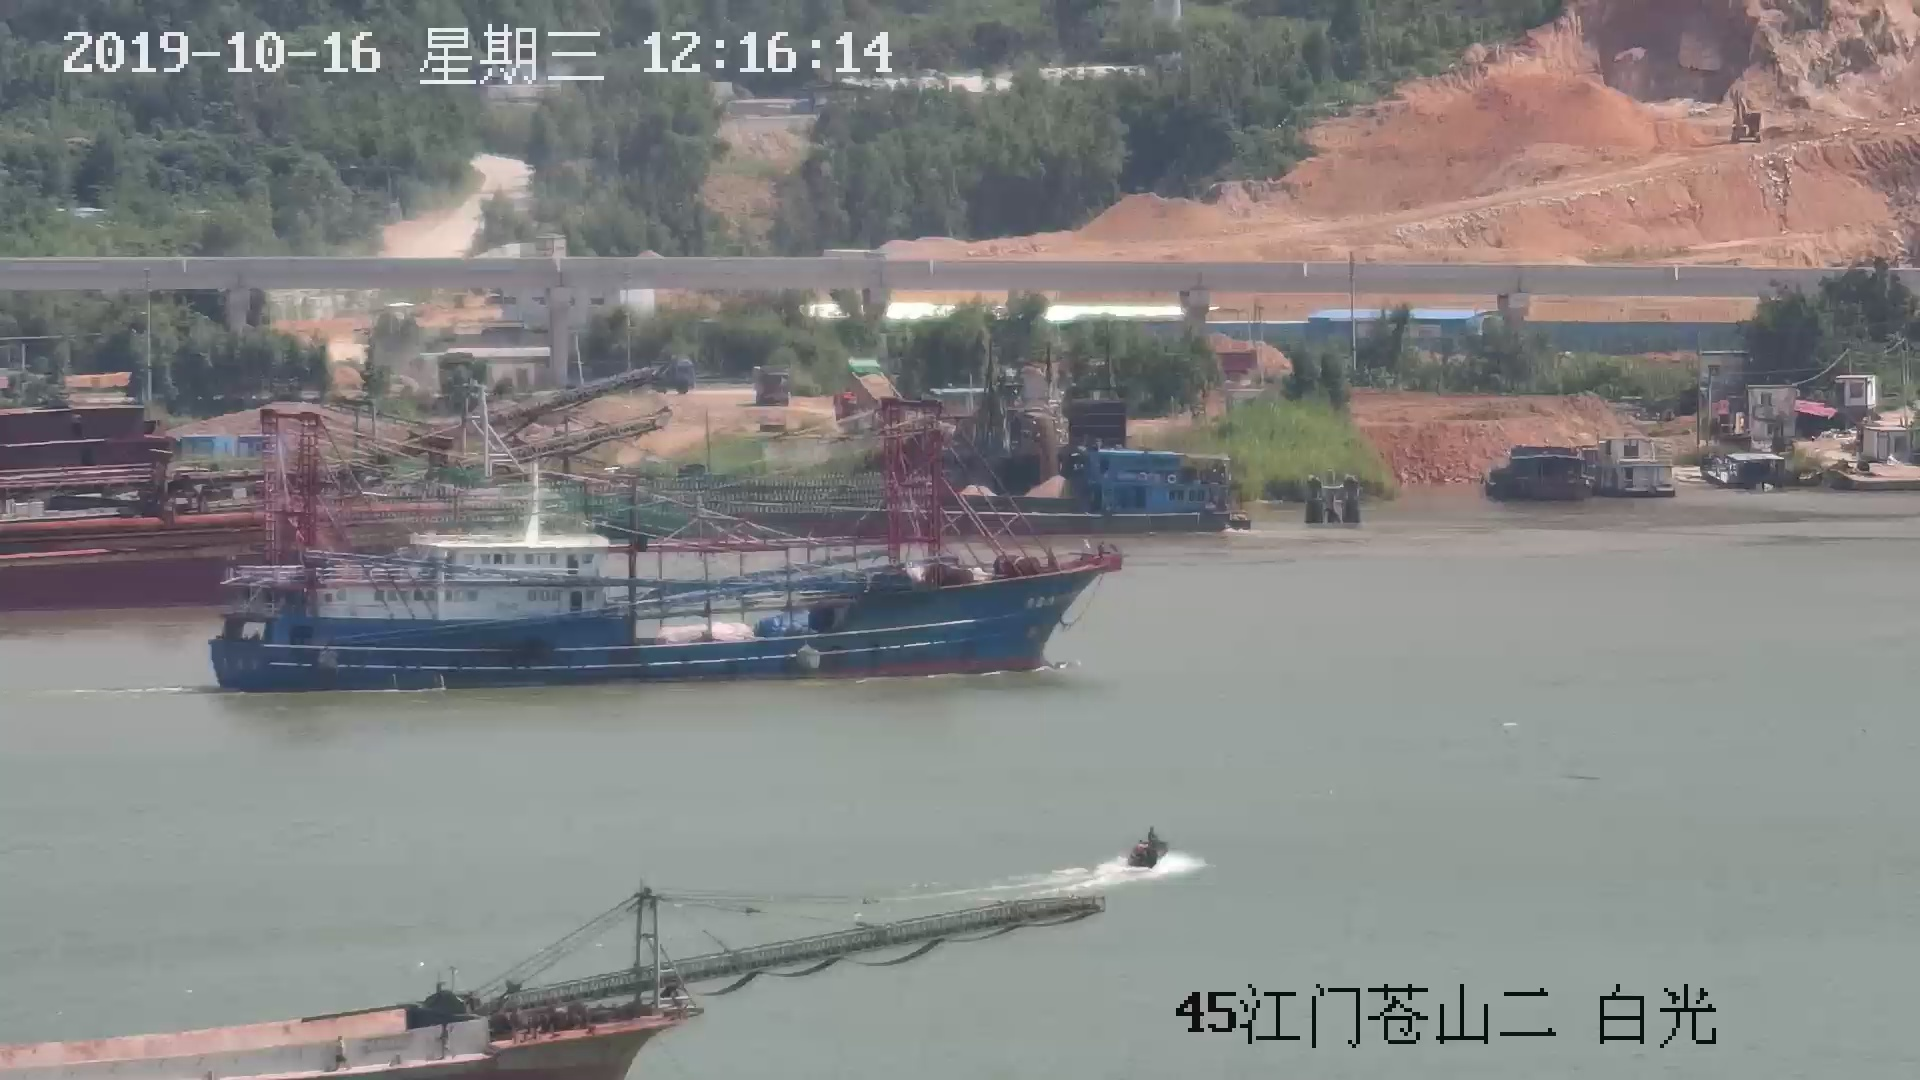ship: (214, 442, 1117, 694), (1, 902, 1080, 1080), (1120, 822, 1178, 880)
